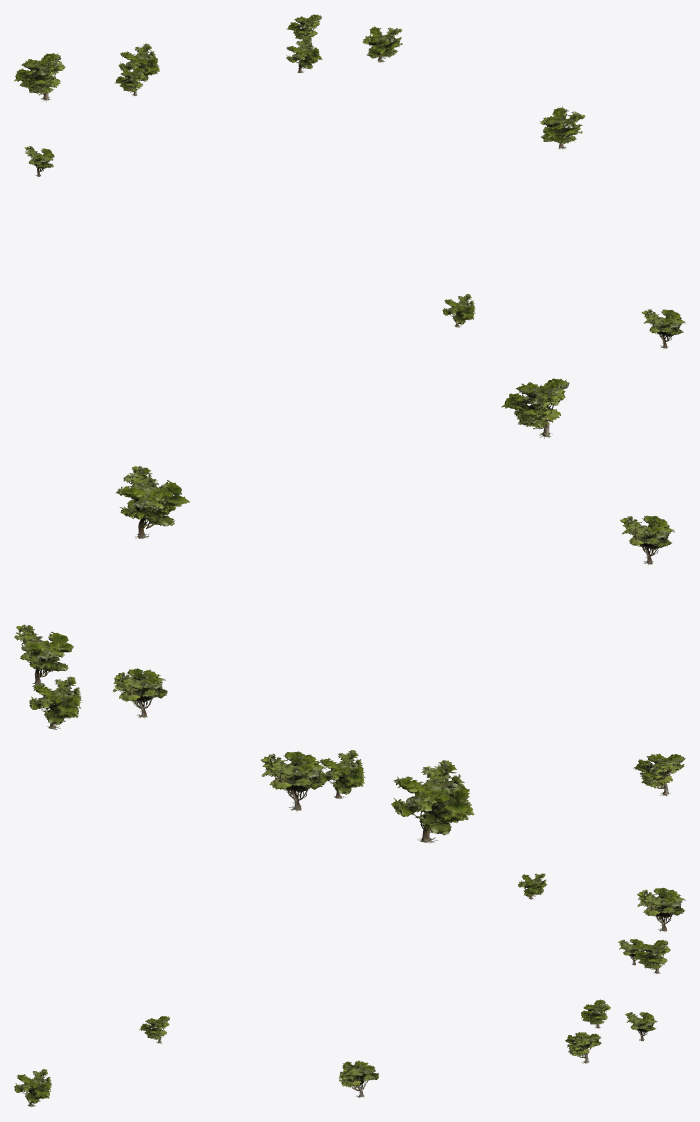
File: Arbol06.glb
3 renders of one model, top to bottom at view 1: azimuth 30°, elevation 25°; view 2: azimuth 150°, elevation 25°; view 3: azimuth 270°, elevation 25°, orthographic. The views are drawn at different scales.
Parts seen in each view (by area): view 1: temp_mesh.ply.915; view 2: temp_mesh.ply.915; view 3: temp_mesh.ply.915.
Boxes of the visible parts, x1,y1,x2,y2 form: temp_mesh.ply.915: (14, 14, 685, 348); temp_mesh.ply.915: (14, 378, 685, 843); temp_mesh.ply.915: (14, 873, 685, 1107).
Size of the model in its own units: 71.4 by 15.66 by 101.
Materials: 1 (1 with a texture image).
